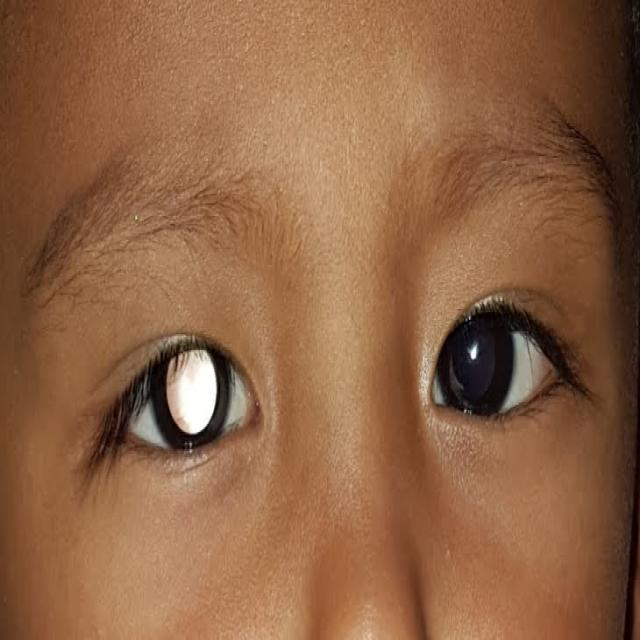reflexo-alterado: (125, 325, 252, 468)
reflexo-normal: (437, 309, 518, 415)
